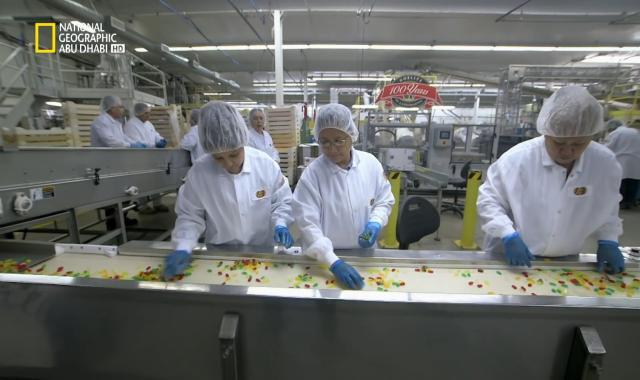hairnet: (535, 85, 603, 142), (197, 102, 250, 154), (312, 102, 358, 146), (98, 93, 122, 122), (248, 106, 270, 133), (132, 100, 150, 120), (607, 119, 626, 132)
